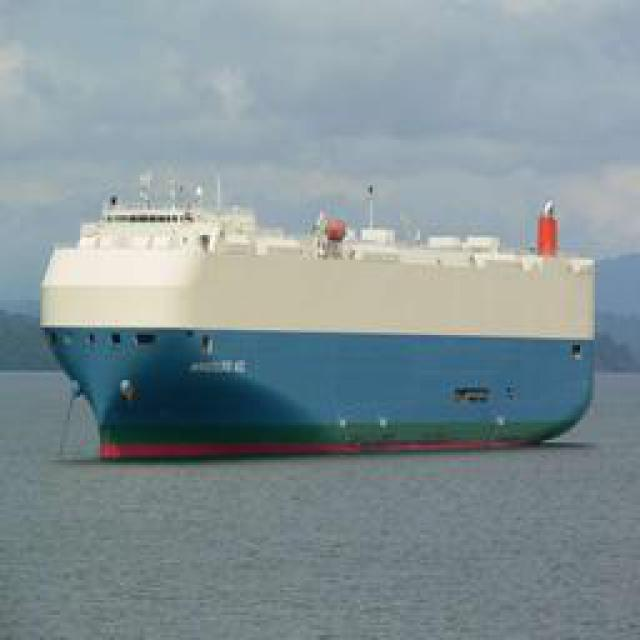Ship: (32, 182, 590, 452)
